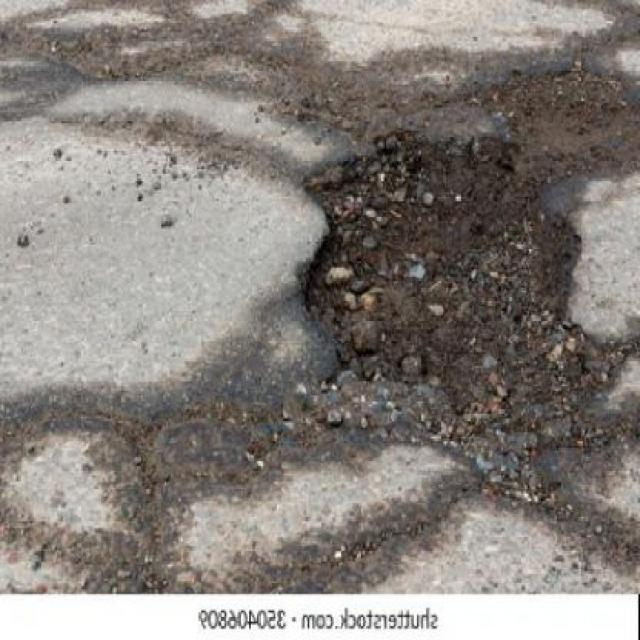Pothole: (286, 55, 640, 517)
